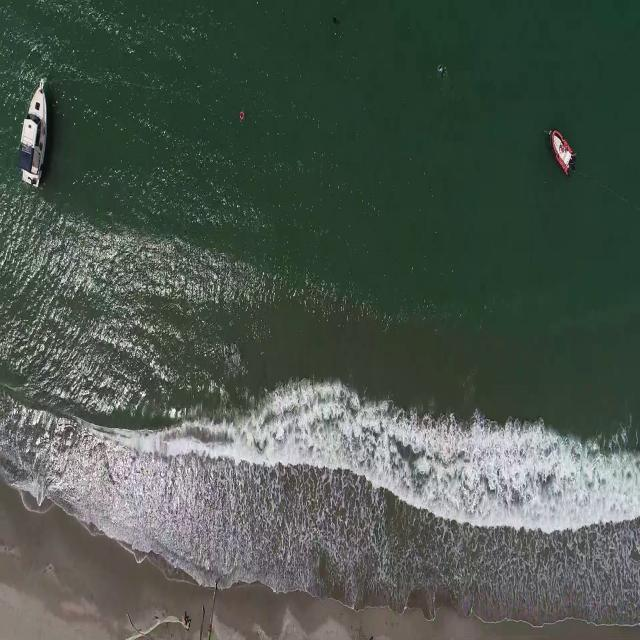boat: (18, 75, 50, 185), (548, 128, 578, 175)
life_buoy: (237, 108, 248, 121)
person: (435, 60, 449, 84), (331, 12, 343, 26)
wood: (125, 610, 193, 638), (199, 578, 219, 640)
